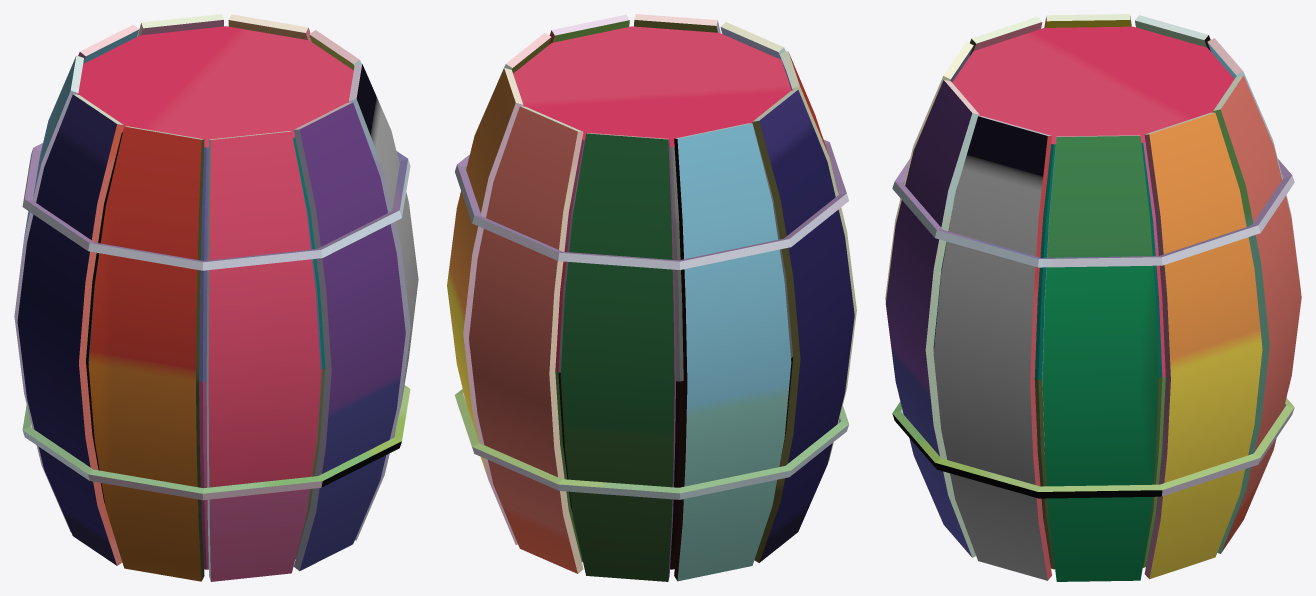
The model's file is barrel.fbx.
3 renders of one model, left to right at view 1: azimuth 30°, elevation 25°; view 2: azimuth 150°, elevation 25°; view 3: azimuth 270°, elevation 25°, orthographic.
Visible parts, largest first — view 1: barrel; view 2: barrel; view 3: barrel.
Part boxes in pixels (bbox=[...]): barrel: bbox=[14, 14, 418, 581]; barrel: bbox=[447, 14, 856, 581]; barrel: bbox=[885, 14, 1301, 581].
Size of the model in its own units: 0.6678 by 0.8119 by 0.6888.
